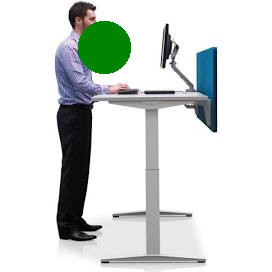focus: (74, 18, 137, 79)
